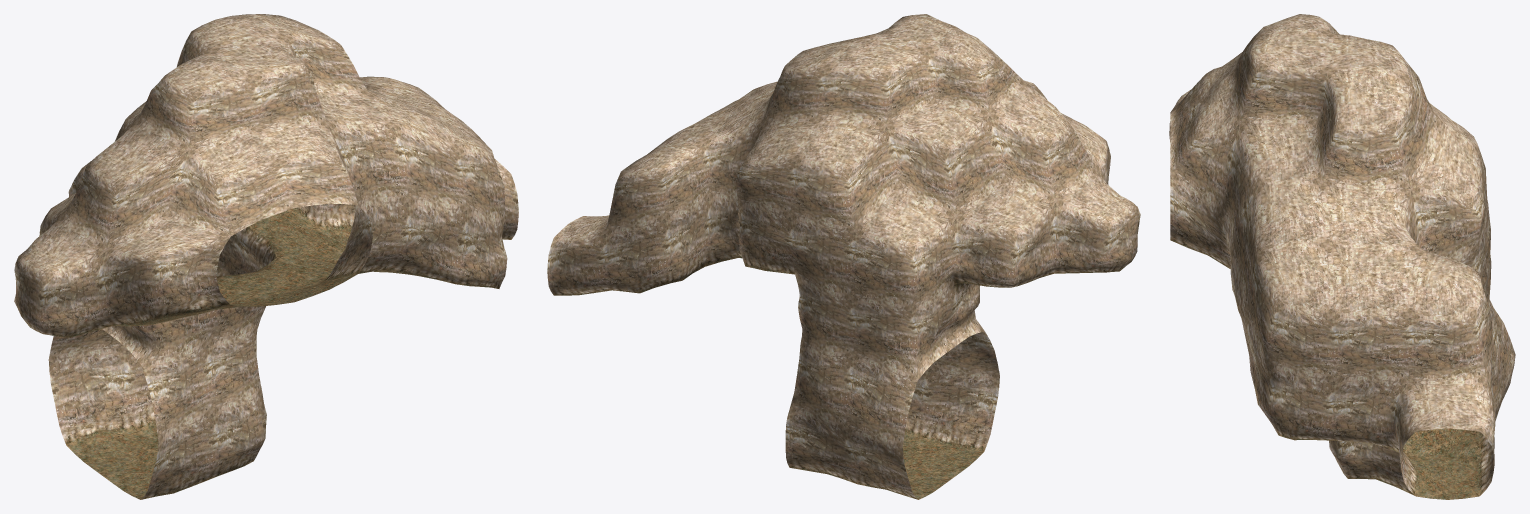
Rendered from thm_all_cave_s03_mirror_r22_mesh_r22.fbx.
3 renders of one model, left to right at view 1: azimuth 30°, elevation 25°; view 2: azimuth 150°, elevation 25°; view 3: azimuth 270°, elevation 25°, orthographic. The views are drawn at different scales.
Visible parts, largest first — view 1: mesh_node; view 2: mesh_node; view 3: mesh_node.
Boxes of the visible parts, x1,y1,x2,y2 form: mesh_node: (14,14,518,499); mesh_node: (547,14,1140,499); mesh_node: (1169,14,1515,499).
Bounding box in the file's own units: 63.36 × 48.59 × 34.97.
